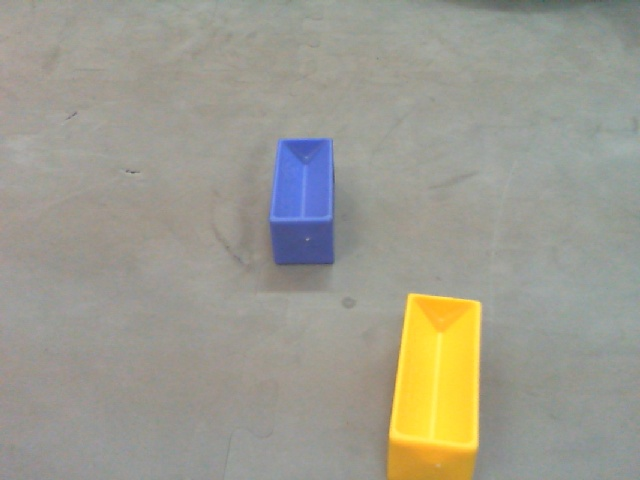BlueSample: (267, 133, 338, 265)
YellowSample: (383, 293, 484, 475)
